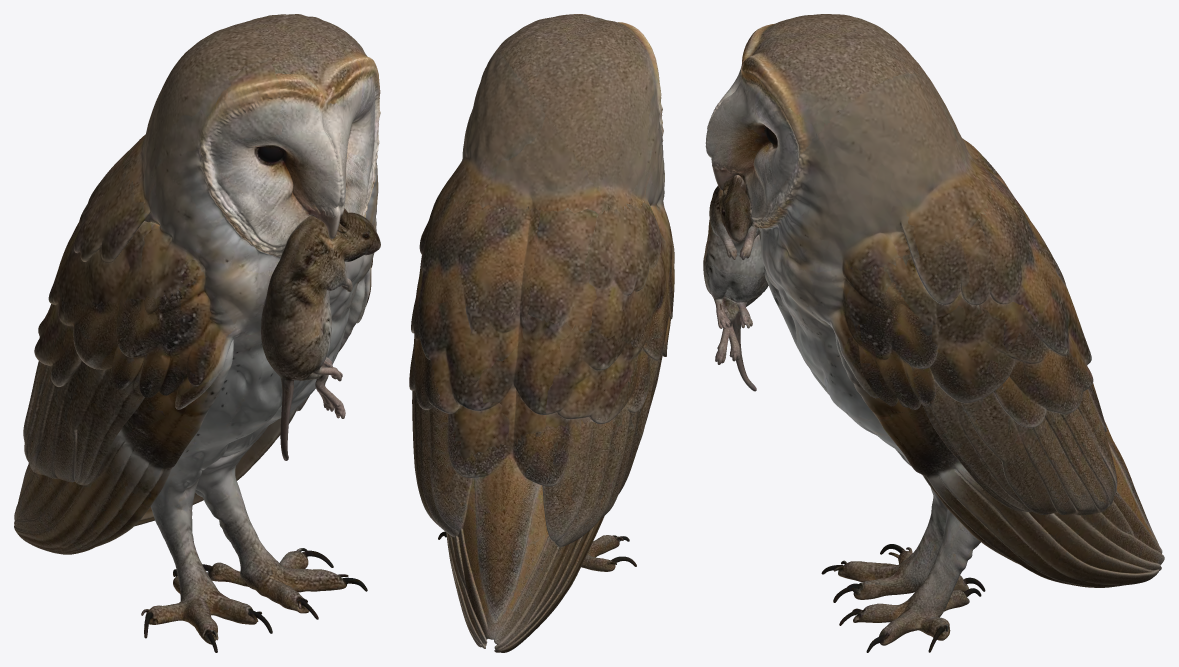
Rendered from campana.glb.
The picture shows the model from 3 angles, left to right: view 1: azimuth 30°, elevation 25°; view 2: azimuth 150°, elevation 25°; view 3: azimuth 270°, elevation 25°; orthographic projection. The views are drawn at different scales.
Bounding box in the file's own units: 0.8947 × 1.9 × 1.38.
1 material, 1 textured.
